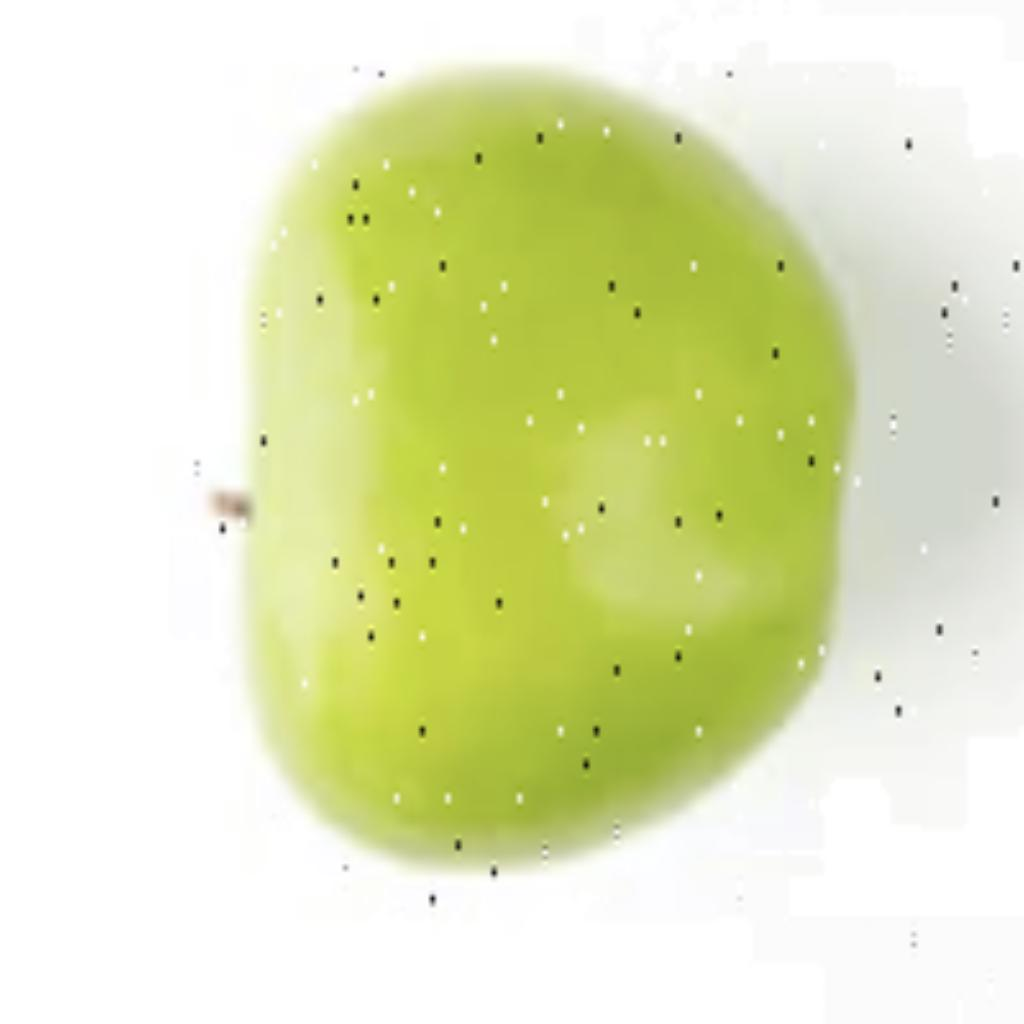apple: (189, 0, 1014, 881)
